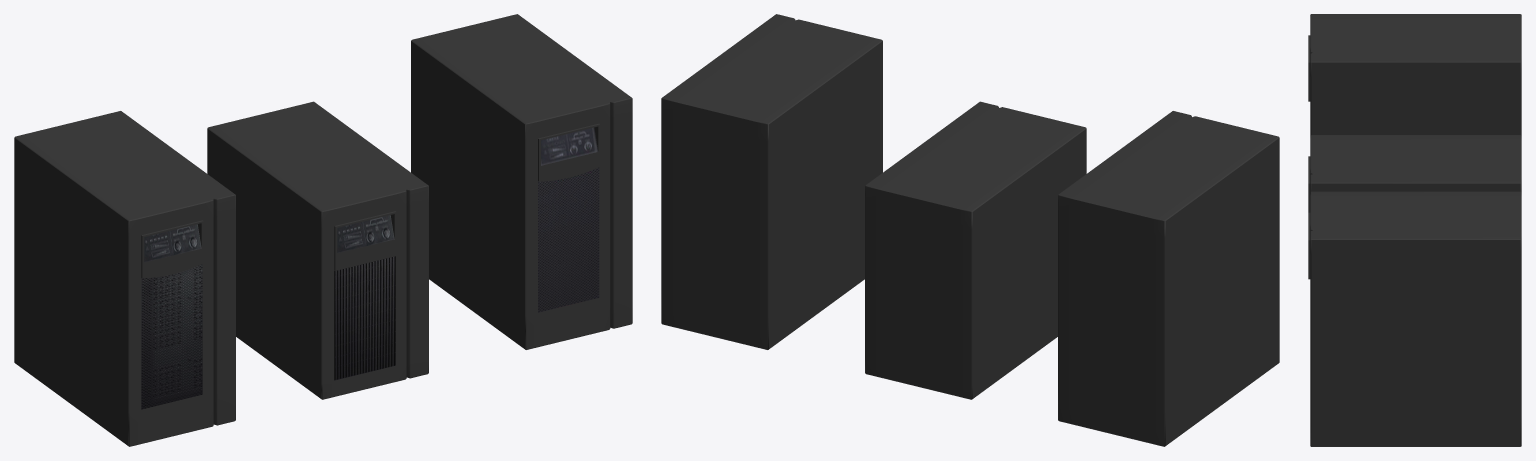
Rendered from UPS01.fbx.
The picture shows the model from 3 angles, left to right: view 1: azimuth 30°, elevation 25°; view 2: azimuth 150°, elevation 25°; view 3: azimuth 270°, elevation 25°; orthographic projection. The views are drawn at different scales.
Parts seen in each view (by area): view 1: polySurface3, polySurface13, polySurface7, polySurface12, polySurface4, polySurface6, polySurface2, polySurface5, polySurface9; view 2: polySurface3, polySurface13, polySurface7; view 3: polySurface13, polySurface3, polySurface7.
Boxes of the visible parts, x1,y1,x2,y2 form: polySurface3: [14, 111, 235, 446]; polySurface13: [411, 14, 632, 349]; polySurface7: [207, 101, 428, 399]; polySurface12: [538, 167, 599, 312]; polySurface4: [141, 264, 202, 409]; polySurface6: [334, 256, 395, 380]; polySurface2: [144, 224, 201, 262]; polySurface5: [337, 215, 394, 253]; polySurface9: [541, 127, 598, 165]; polySurface3: [1058, 111, 1279, 446]; polySurface13: [661, 14, 882, 349]; polySurface7: [865, 101, 1086, 399]; polySurface13: [1308, 191, 1521, 446]; polySurface3: [1308, 14, 1521, 135]; polySurface7: [1308, 135, 1521, 212].
Size of the model in its own units: 116 by 50 by 46.42.
Materials: 6 (5 with a texture image).
